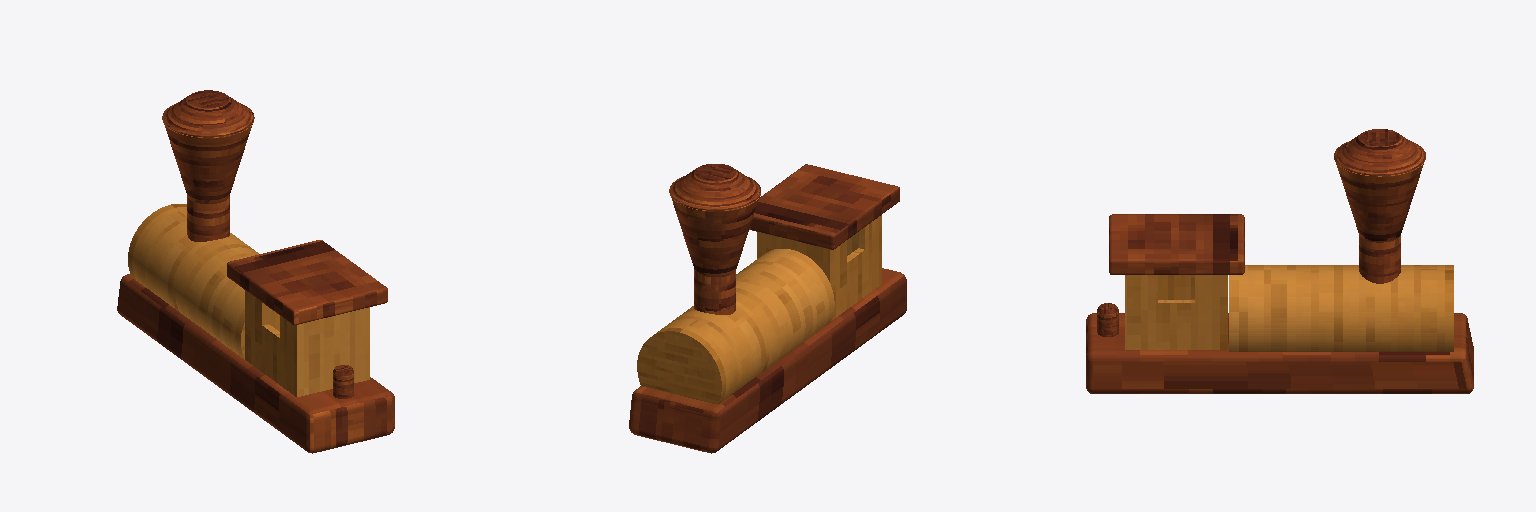
3 renders of one model, left to right at view 1: azimuth 30°, elevation 25°; view 2: azimuth 150°, elevation 25°; view 3: azimuth 270°, elevation 25°, orthographic.
Visible parts, largest first — view 1: Cylinder.005; view 2: Cylinder.005; view 3: Cylinder.005.
Part boxes in pixels (left/top/right/bottom): Cylinder.005: left=117, top=90, right=394, bottom=453; Cylinder.005: left=629, top=164, right=906, bottom=453; Cylinder.005: left=1086, top=129, right=1473, bottom=393.
Size of the model in its own units: 2.27 by 5.41 by 7.95.
Materials: 2 (2 with a texture image).